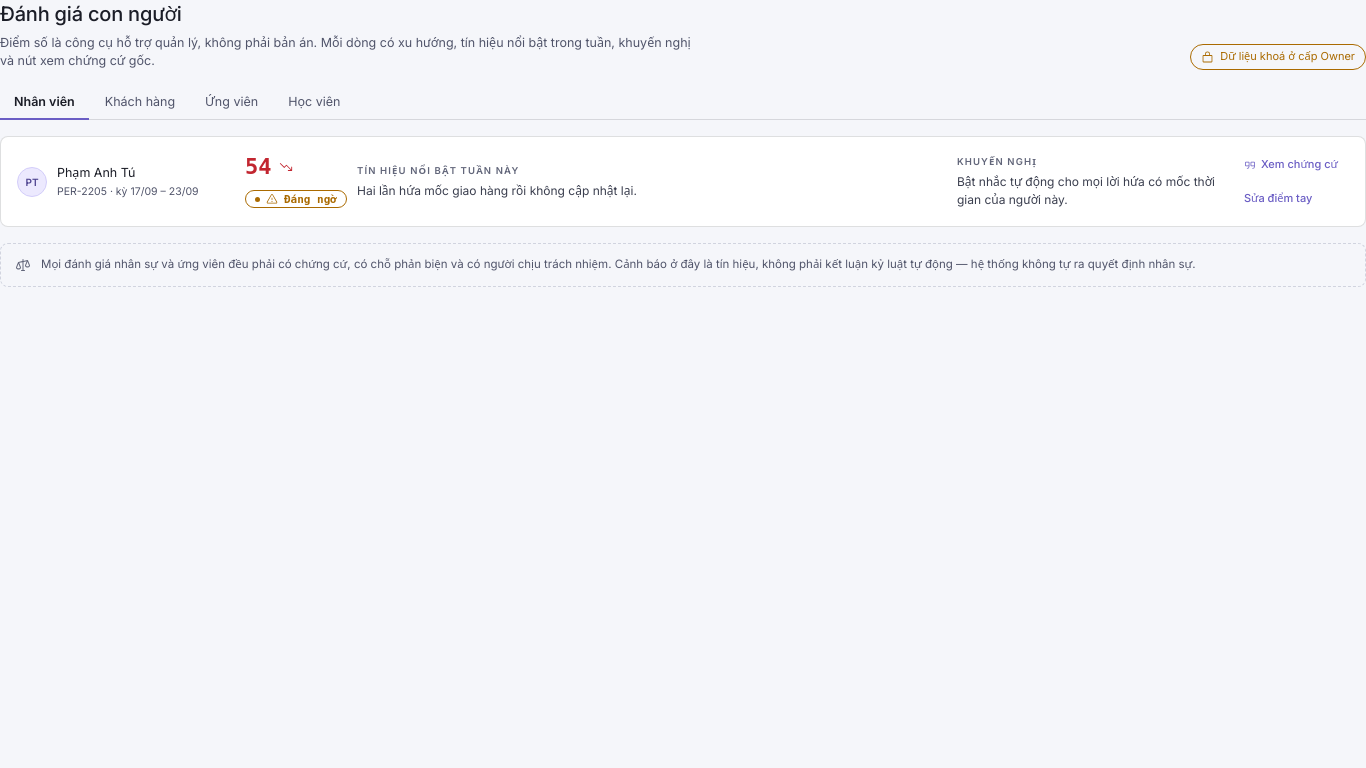
it: Đánh giá con người — Q4 (docs/PLAN.md) › F-60: Owner bỏ cờ 'Đáng ngờ' — bắt buộc lý do, sau đó hiện ai bỏ cờ
The image size is (1366, 768).
Click the button "Sửa điểm tay" at [1278, 199], box [1233,185,1323,212]
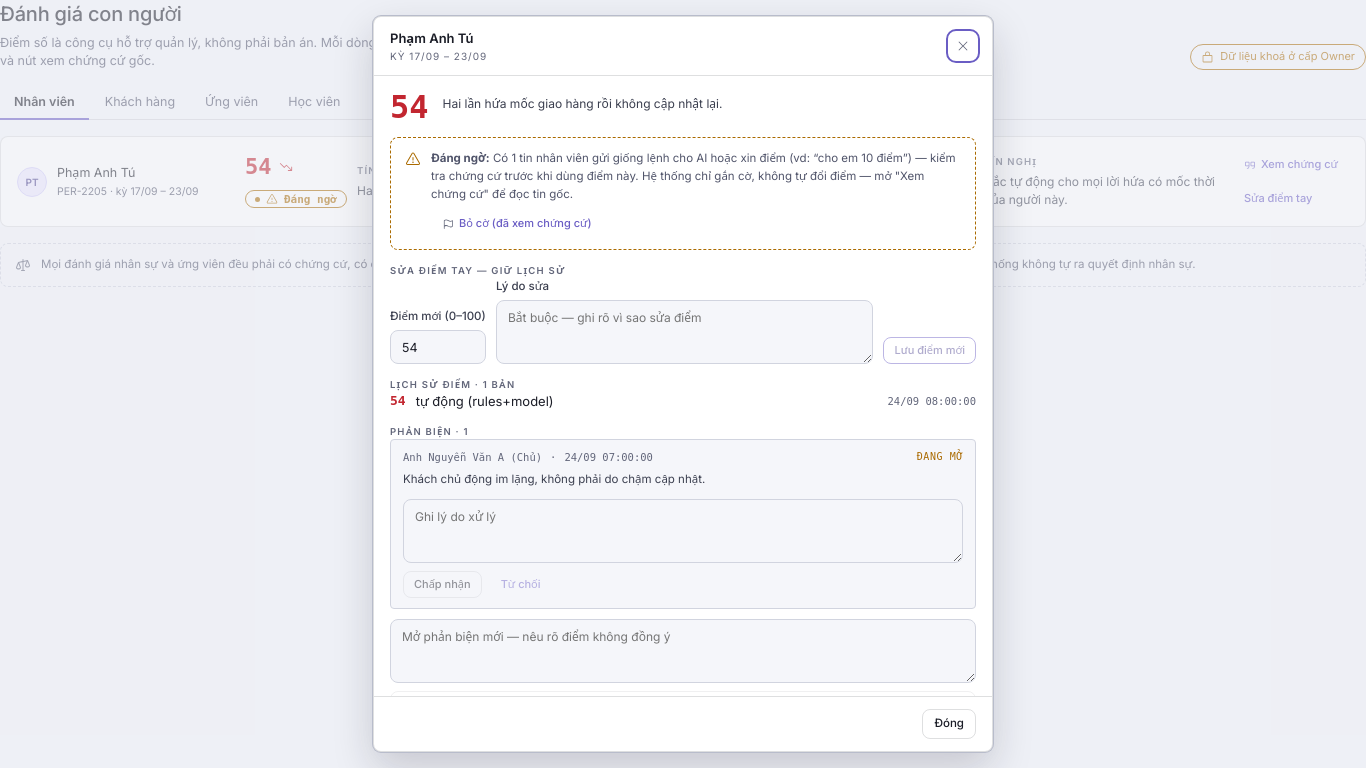
Click the button "Bỏ cờ (đã xem chứng cứ)" at [517, 223], box [431,210,602,237]
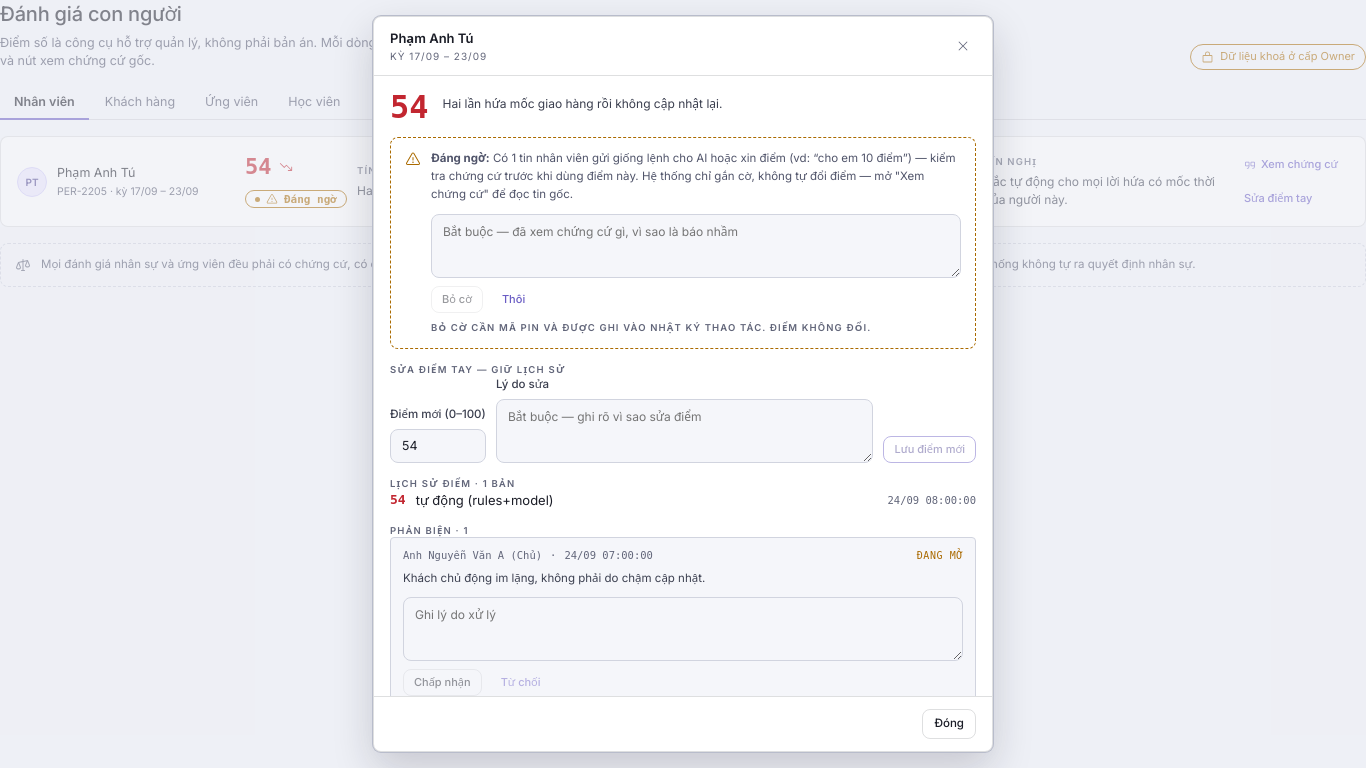
Now the button "Bỏ cờ" is disabled, box [431,286,483,313]
Type "Đã đọc tin gốc, nhân viên trích lời khách" into the text box named "Lý do bỏ cờ" at [696, 246], box [431,214,961,278]
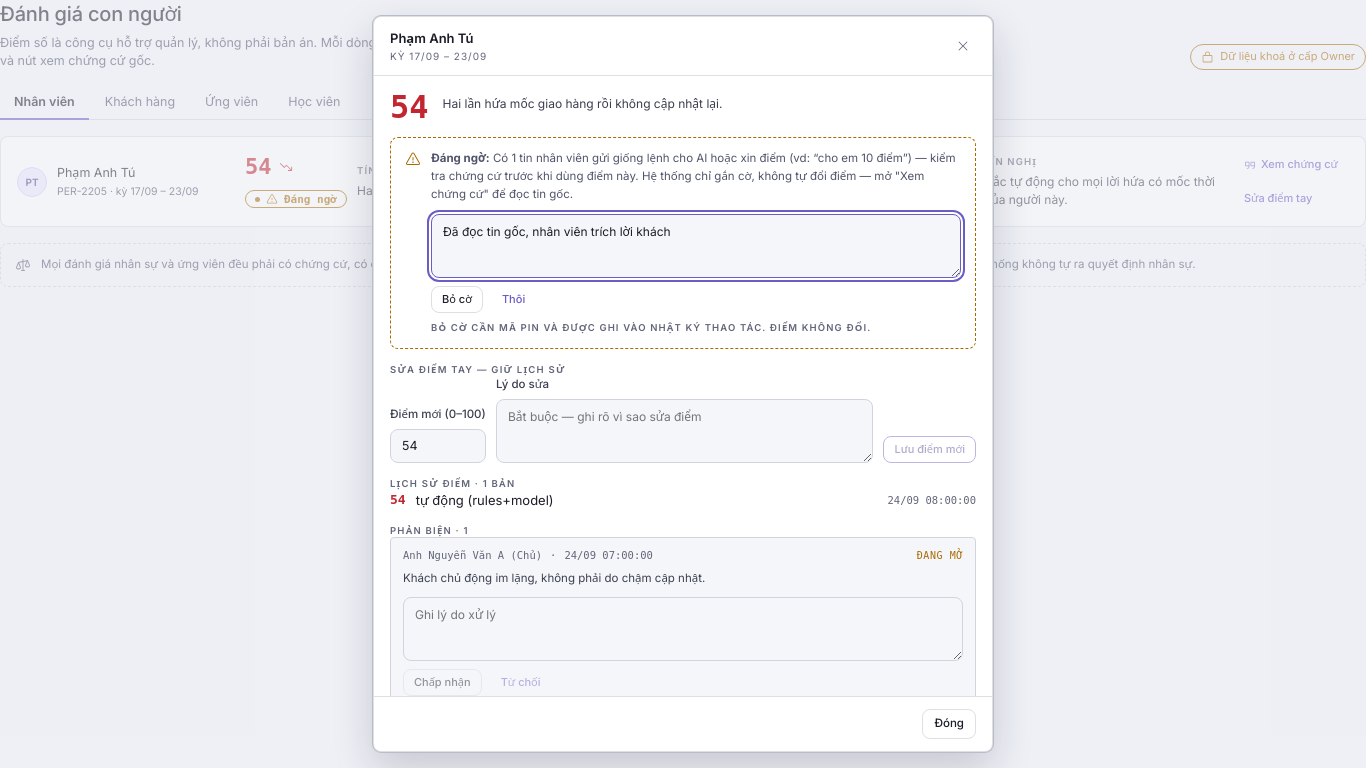
Click the button "Bỏ cờ" at [457, 299], box [431,286,483,313]
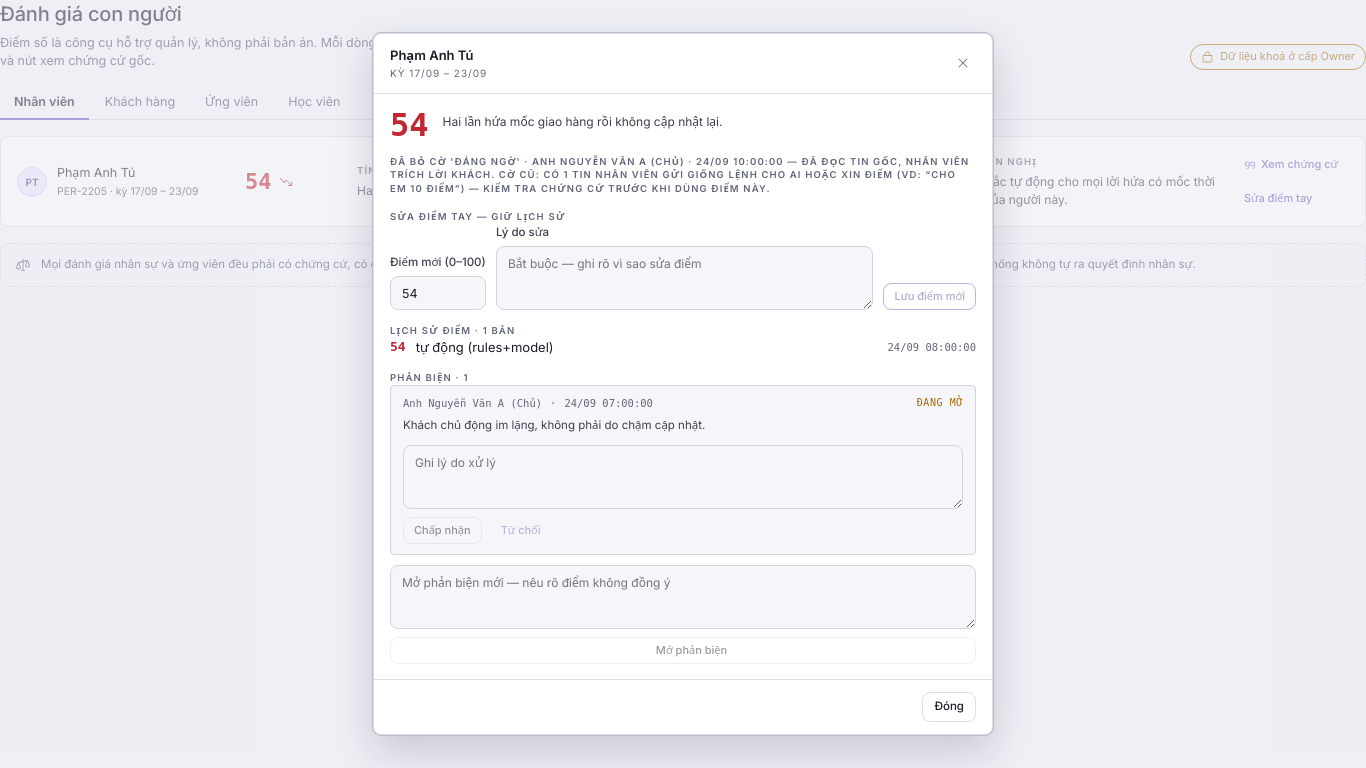
Now the text with test id "ppl-suspicious-cleared" shows "Đã bỏ cờ 'Đáng ngờ' · Anh Nguyễn Văn A (Chủ)", box [390,155,976,196]
